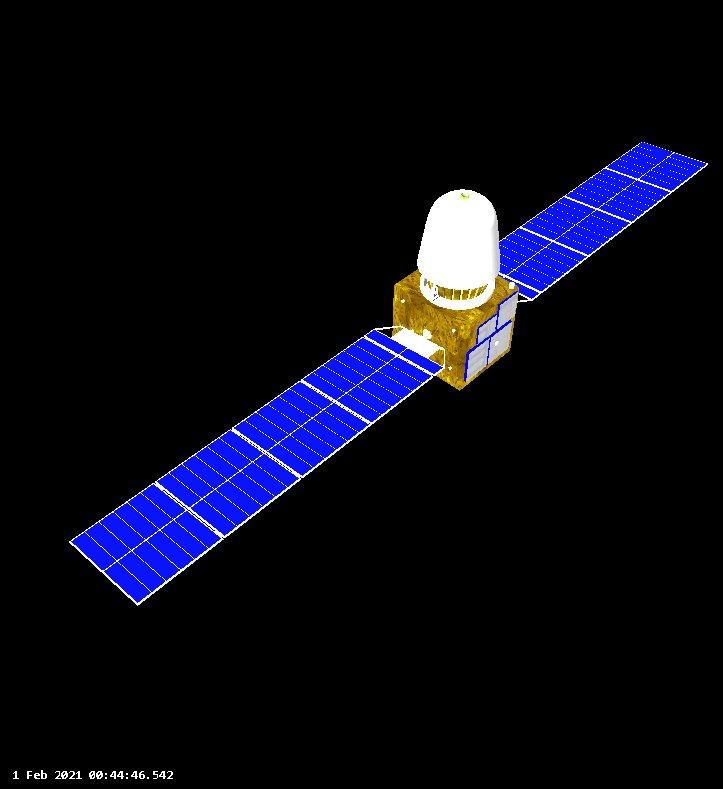antenna: (458, 189, 471, 199)
body: (387, 187, 518, 389)
solar: (66, 324, 448, 611), (485, 137, 712, 301)
